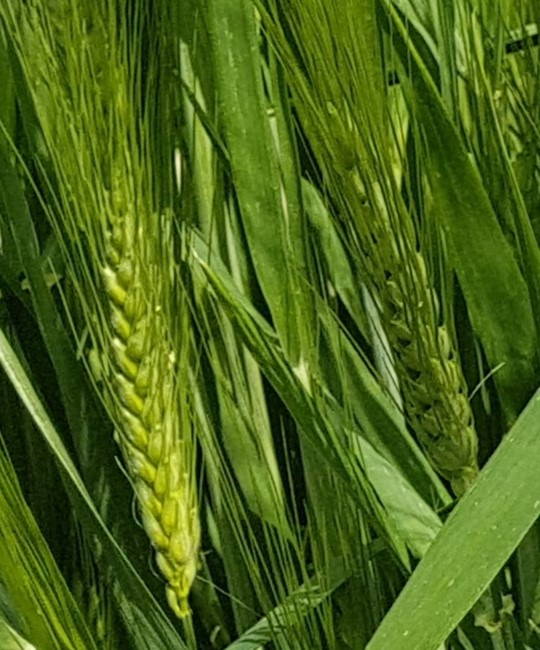Healthy Wheat: (83, 209, 214, 587), (329, 157, 476, 478)
